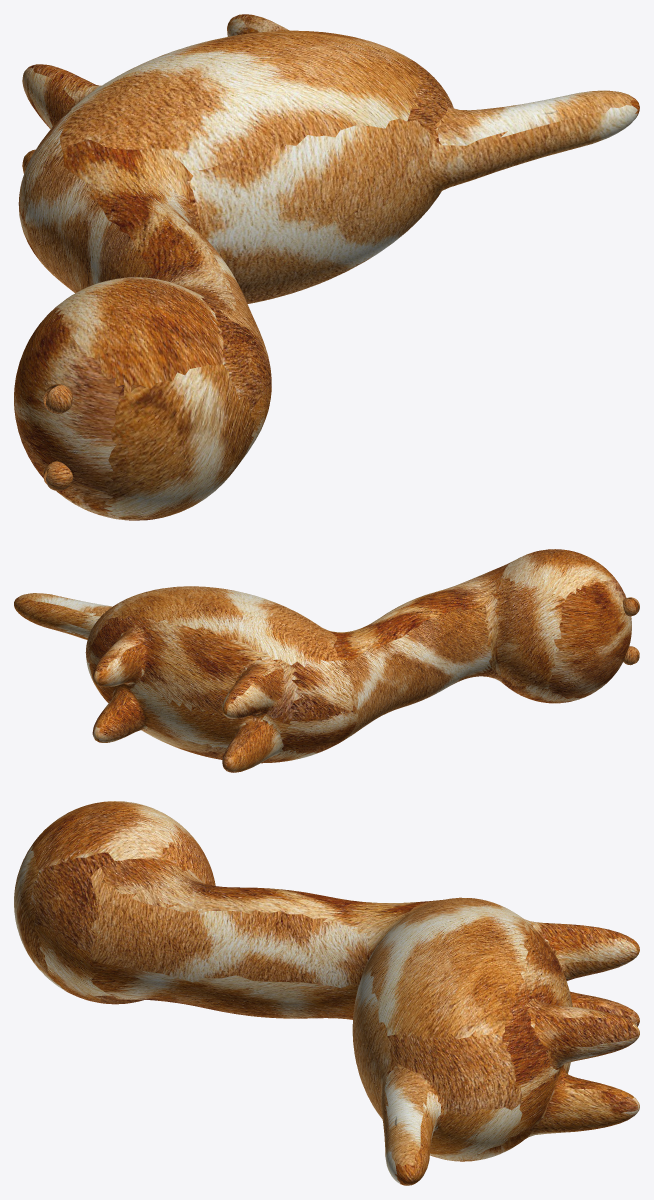
File: nessie8.obj
3 views of the same model, one above another, from view 1: azimuth 30°, elevation 25°; view 2: azimuth 150°, elevation 25°; view 3: azimuth 270°, elevation 25° (orthographic). The views are drawn at different scales.
Visible parts, largest first — view 1: head, lowerspine, upperspine, tail, lowerneck, topneck, middleneck, lowerfrontrightleg, tippytopneck, lowerrightrearleg; view 2: upperspine, head, lowerspine, lowerneck, topneck, middleneck, tail, lowerfrontrightleg, lowerfrontleftleg, tippytopneck, lowerrightrearleg, lowerrearleftleg (+1 smaller); view 3: lowerspine, head, topneck, middleneck, tippytopneck, lowerneck, upperspine, tail, lowerrightrearleg, lowerrearleftleg, lowerfrontrightleg, upperneck (+1 smaller).
Boxes of the visible parts, x1=… form: head: x1=14, y1=277, x2=267, y2=520; lowerspine: x1=201, y1=30, x2=458, y2=298; upperspine: x1=18, y1=39, x2=311, y2=303; tail: x1=430, y1=90, x2=639, y2=190; lowerneck: x1=25, y1=147, x2=212, y2=293; topneck: x1=103, y1=234, x2=265, y2=347; middleneck: x1=72, y1=203, x2=225, y2=291; lowerfrontrightleg: x1=22, y1=64, x2=101, y2=129; tippytopneck: x1=172, y1=282, x2=271, y2=428; lowerrightrearleg: x1=227, y1=14, x2=289, y2=36; upperspine: x1=118, y1=592, x2=361, y2=763; head: x1=493, y1=549, x2=639, y2=703; lowerspine: x1=85, y1=586, x2=247, y2=754; lowerneck: x1=333, y1=616, x2=401, y2=736; topneck: x1=421, y1=573, x2=485, y2=691; middleneck: x1=377, y1=598, x2=445, y2=711; tail: x1=14, y1=593, x2=112, y2=639; lowerfrontrightleg: x1=217, y1=657, x2=280, y2=718; lowerfrontleftleg: x1=221, y1=711, x2=279, y2=772; tippytopneck: x1=474, y1=558, x2=518, y2=680; lowerrightrearleg: x1=92, y1=627, x2=149, y2=689; lowerrearleftleg: x1=92, y1=685, x2=153, y2=742; lowerspine: x1=352, y1=924, x2=571, y2=1161; head: x1=14, y1=801, x2=215, y2=1004; topneck: x1=93, y1=877, x2=264, y2=1010; middleneck: x1=215, y1=888, x2=348, y2=1018; tippytopneck: x1=49, y1=845, x2=207, y2=1000; lowerneck: x1=289, y1=900, x2=426, y2=1019; upperspine: x1=353, y1=897, x2=572, y2=1080; tail: x1=381, y1=1063, x2=440, y2=1185; lowerrightrearleg: x1=528, y1=1001, x2=639, y2=1075; lowerrearleftleg: x1=532, y1=1071, x2=639, y2=1135; lowerfrontrightleg: x1=529, y1=922, x2=639, y2=980; upperneck: x1=189, y1=888, x2=277, y2=1016.
Size of the model in its own units: 13.11 by 3.82 by 10.79.
2 materials, 2 textured.
